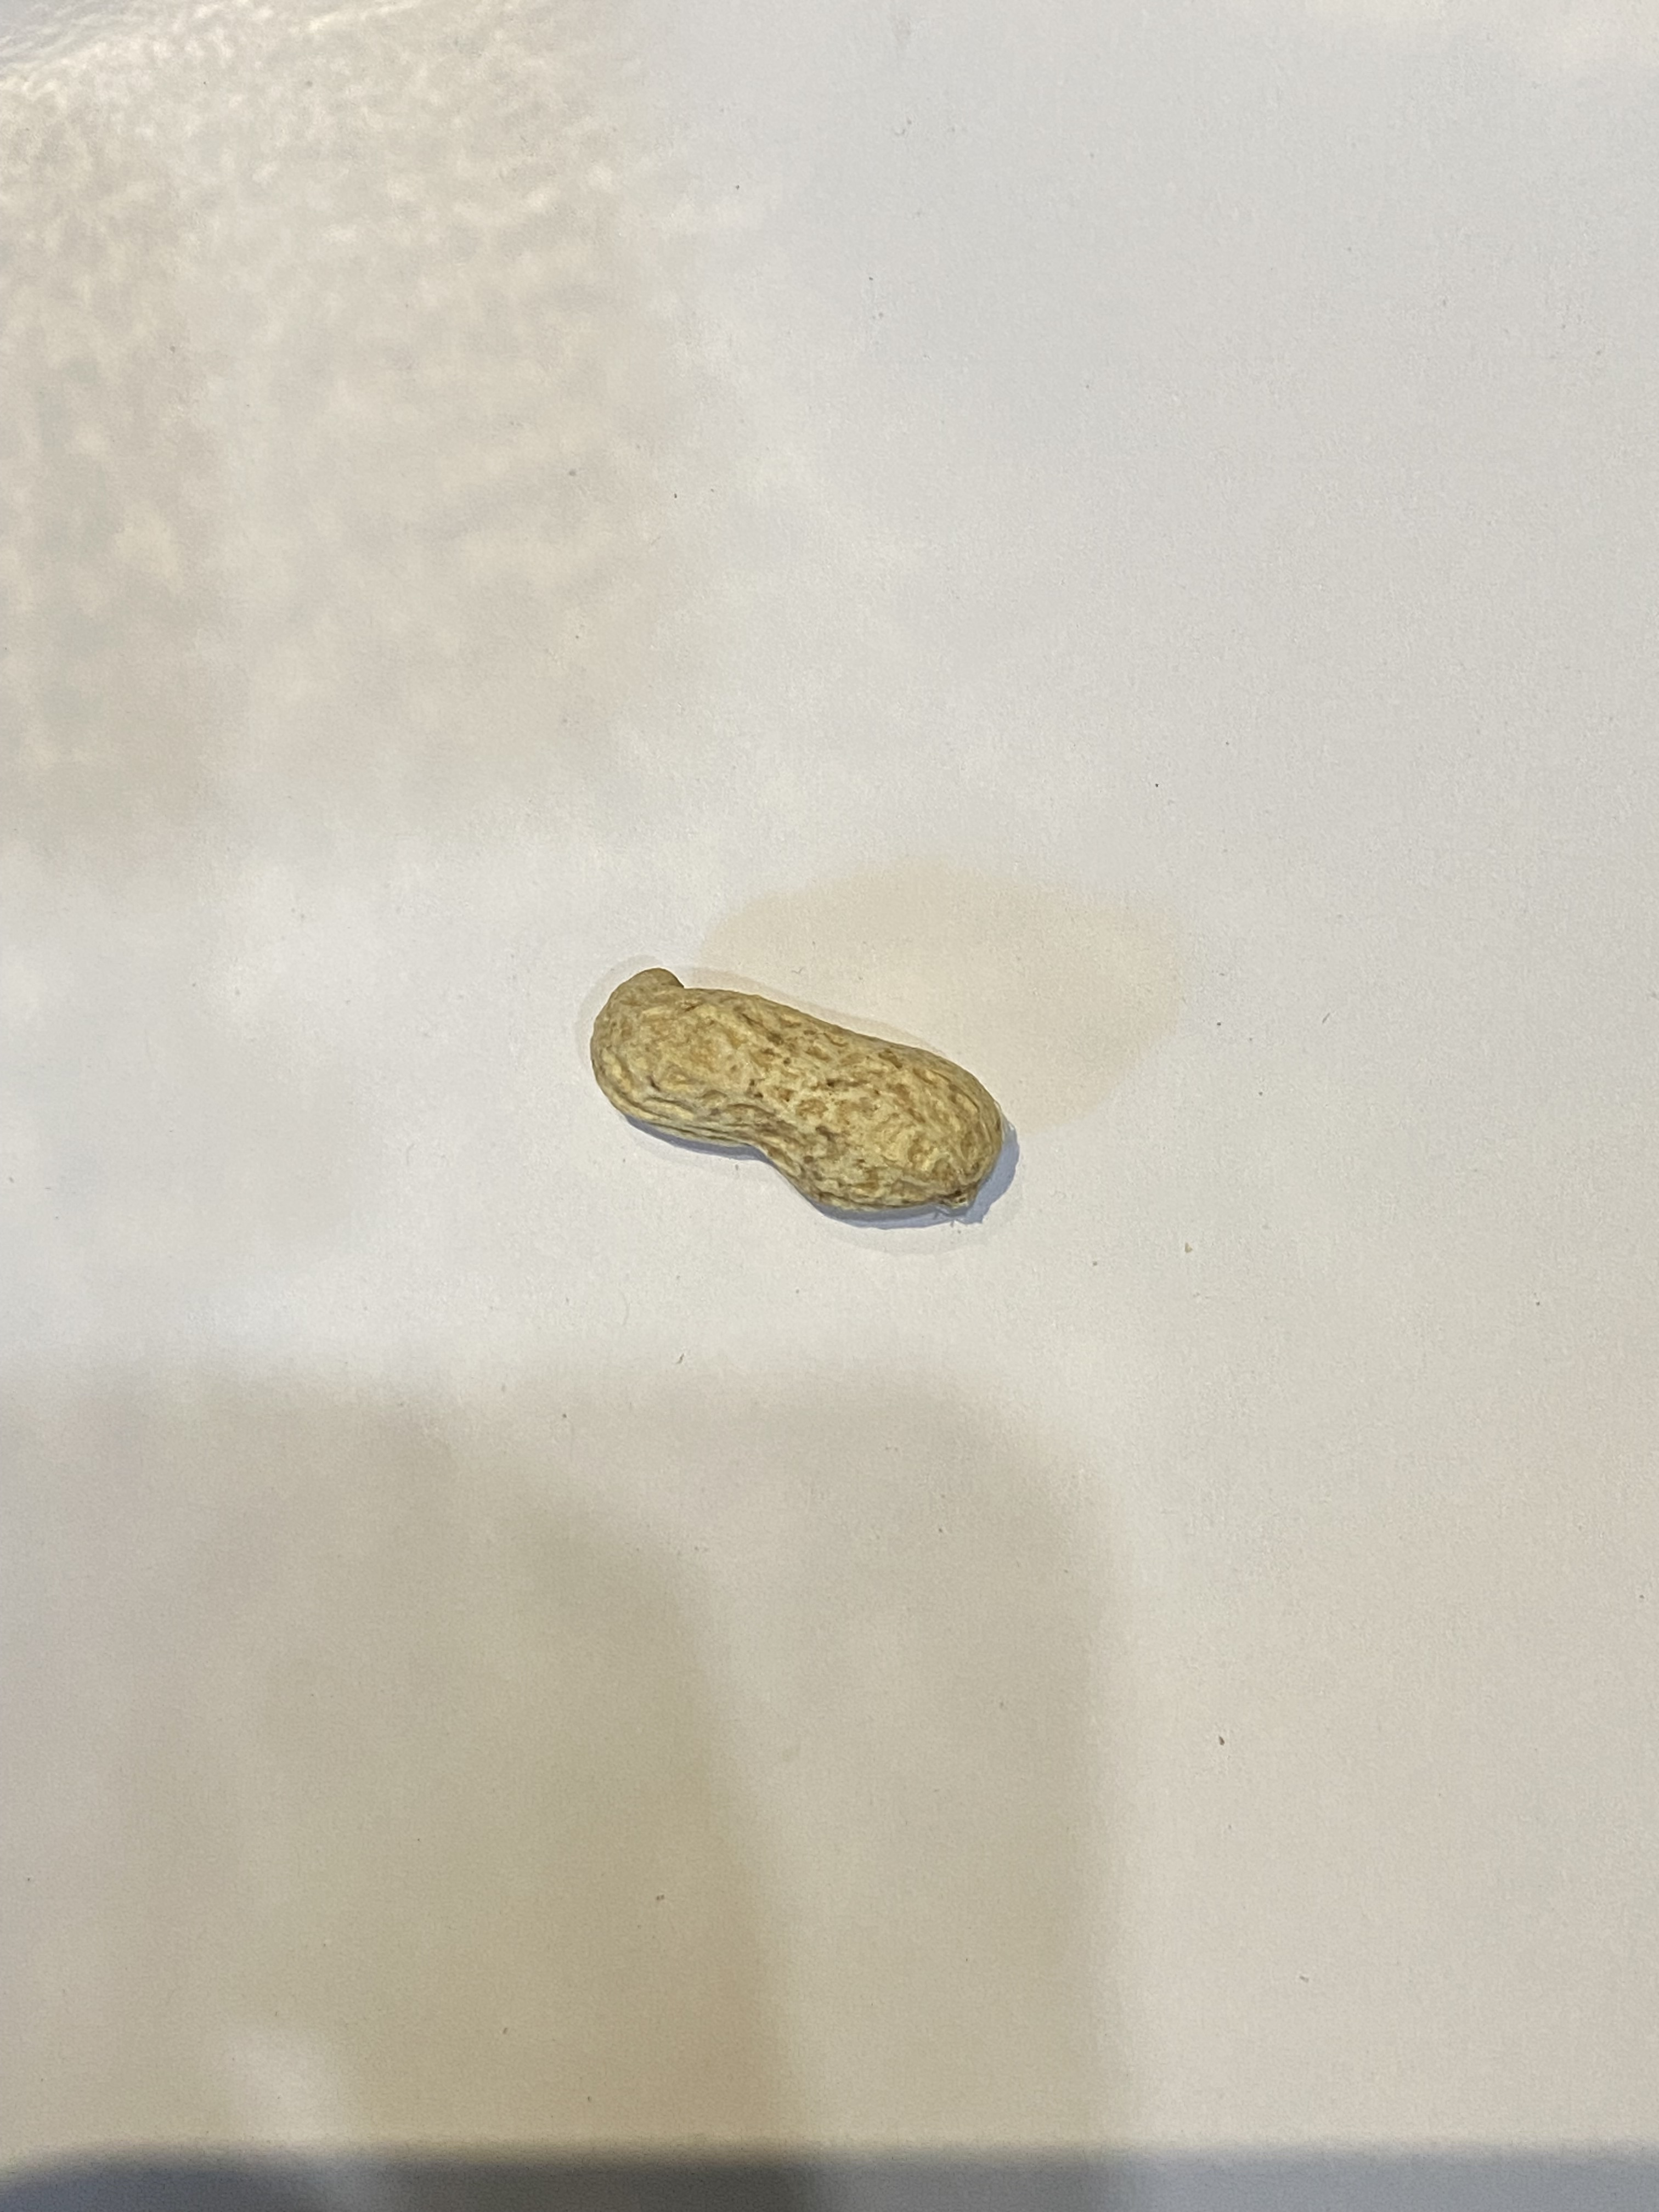kacang2: (563, 948, 1033, 1219)
